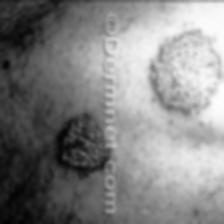Non-Cancerous Skin Condition: (148, 19, 224, 121), (56, 112, 109, 178)
